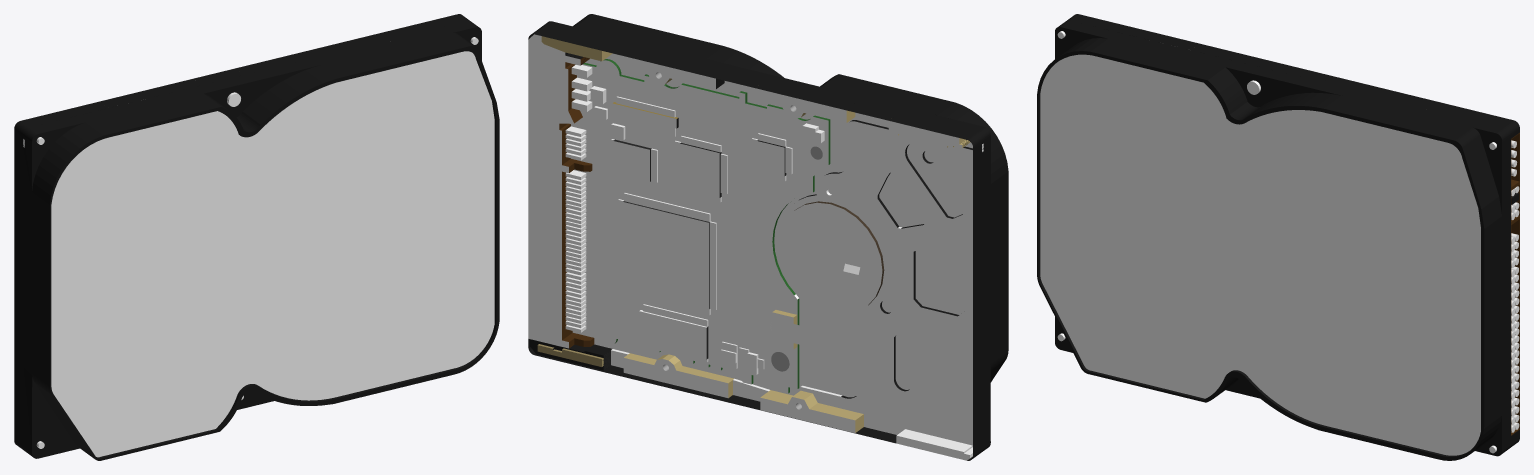
3 renders of one model, left to right at view 1: azimuth 30°, elevation 25°; view 2: azimuth 150°, elevation 25°; view 3: azimuth 330°, elevation 25°, orthographic.
Visible parts, largest first — view 1: samsung hdd; view 2: samsung hdd; view 3: samsung hdd.
Part boxes in pixels (<box>): samsung hdd: <box>14,14,499,460</box>; samsung hdd: <box>528,14,1008,460</box>; samsung hdd: <box>1037,14,1519,460</box>.
Bounding box in the file's own units: 5.71 × 3.94 × 0.7874.
